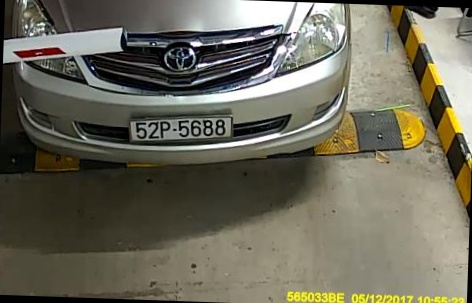plate: (128, 115, 240, 146)
